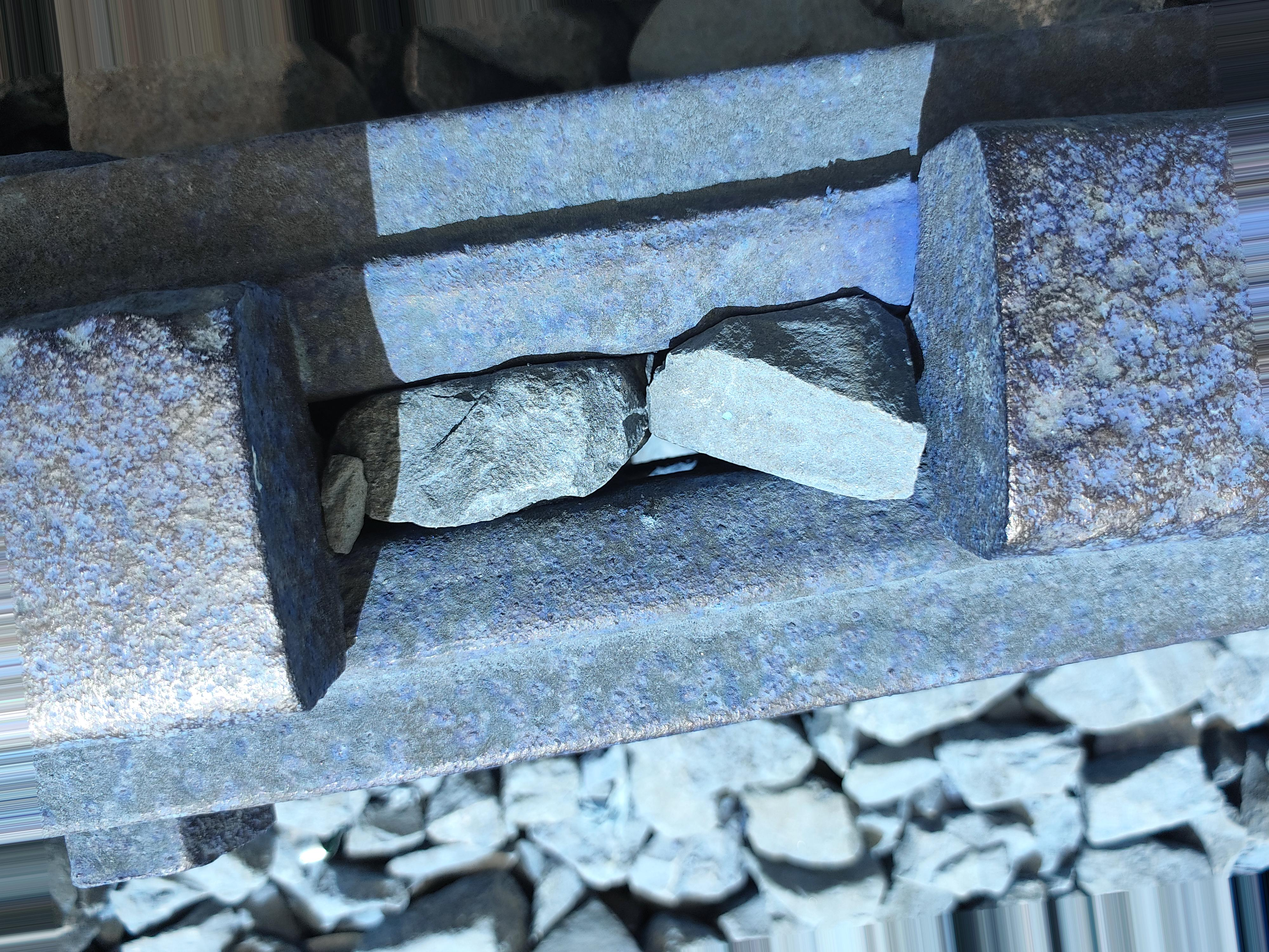tracks_fault: (121, 96, 1095, 802)
